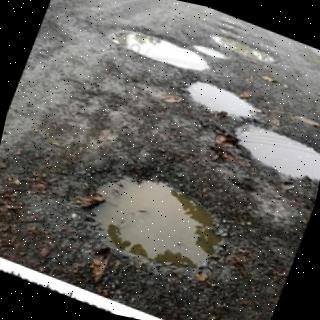pothole: (90, 176, 221, 272), (237, 125, 320, 182), (109, 31, 208, 71), (187, 81, 255, 119), (210, 35, 276, 63), (189, 45, 228, 60)
